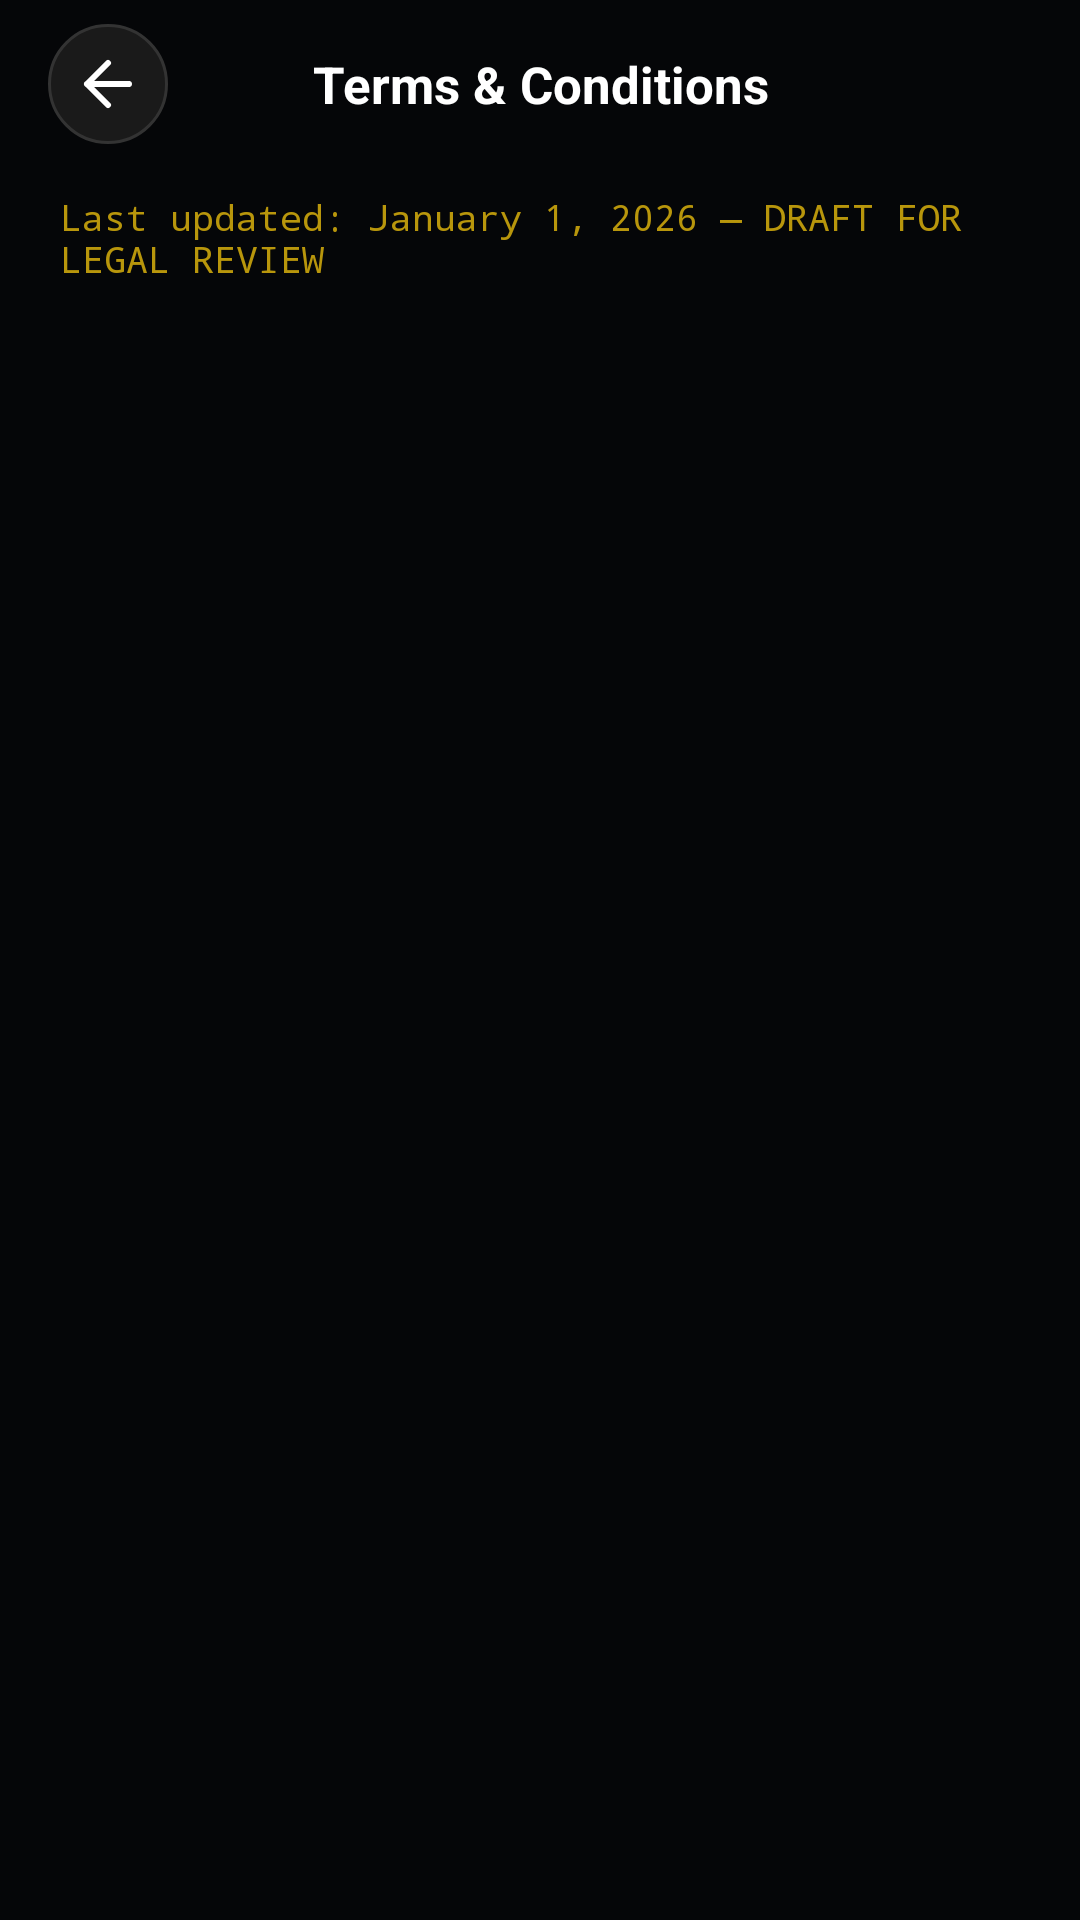

Icons on this 1080 × 1920 Android screen, each with its box as (x1,y1,x2,y2):
Back: (48,24,168,144)
